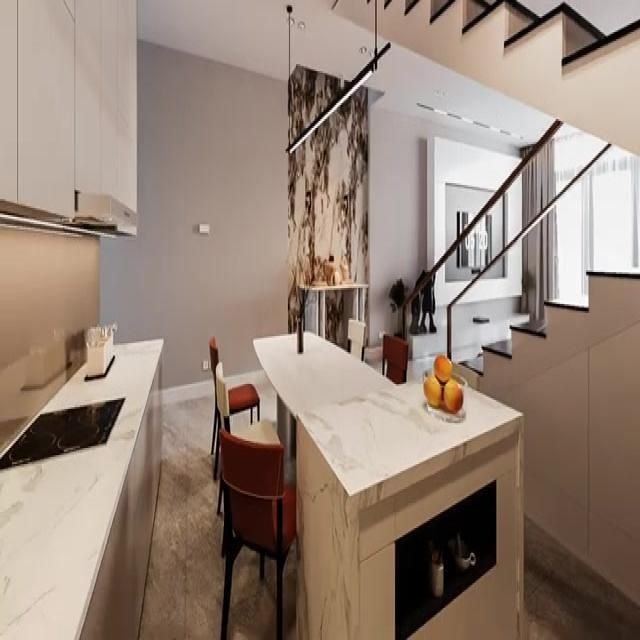obstacle: (252, 327, 524, 638), (381, 332, 408, 384), (346, 316, 366, 361)
